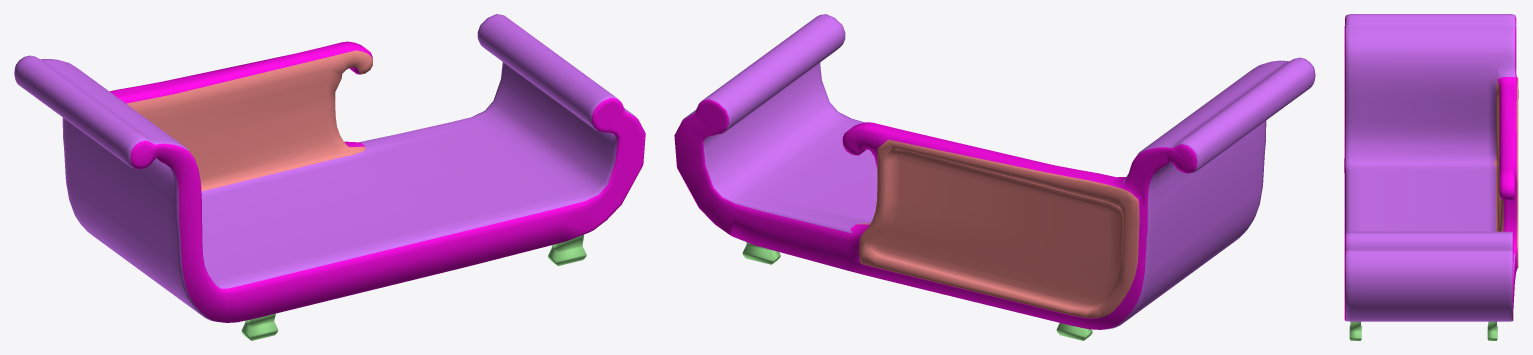
File: royal couch .fbx
3 views of the same model, side by side, from view 1: azimuth 30°, elevation 25°; view 2: azimuth 150°, elevation 25°; view 3: azimuth 270°, elevation 25° (orthographic). The views are drawn at different scales.
Parts seen in each view (by area): view 1: Royal_Sofa; view 2: Royal_Sofa; view 3: Royal_Sofa.
Part boxes in pixels (left/top/right/bottom): Royal_Sofa: left=14, top=14, right=645, bottom=340; Royal_Sofa: left=674, top=14, right=1315, bottom=340; Royal_Sofa: left=1344, top=14, right=1518, bottom=340.
Bounding box in the file's own units: 515 × 220 × 206.
